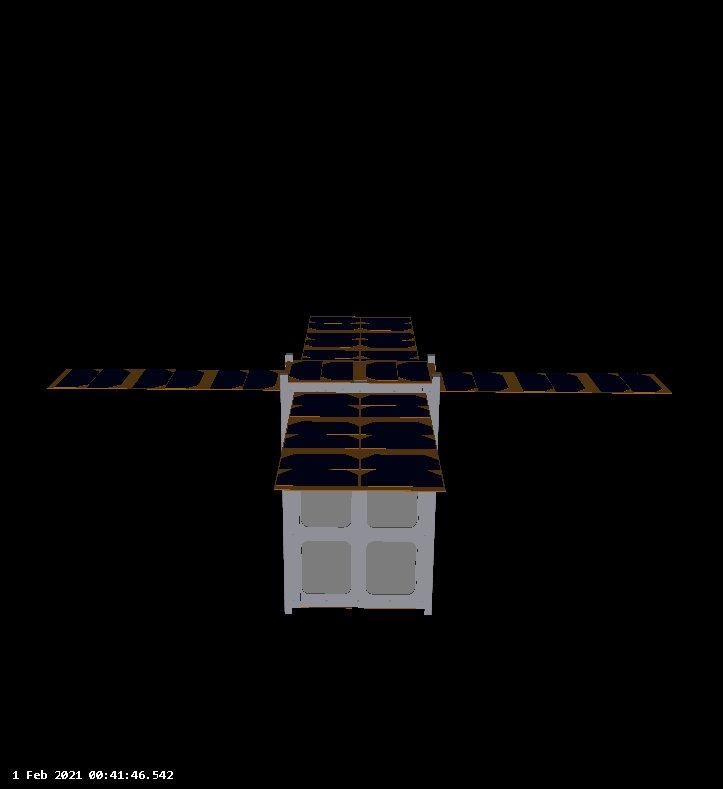body: (273, 293, 447, 633)
solar: (434, 336, 674, 440), (41, 340, 332, 420)
